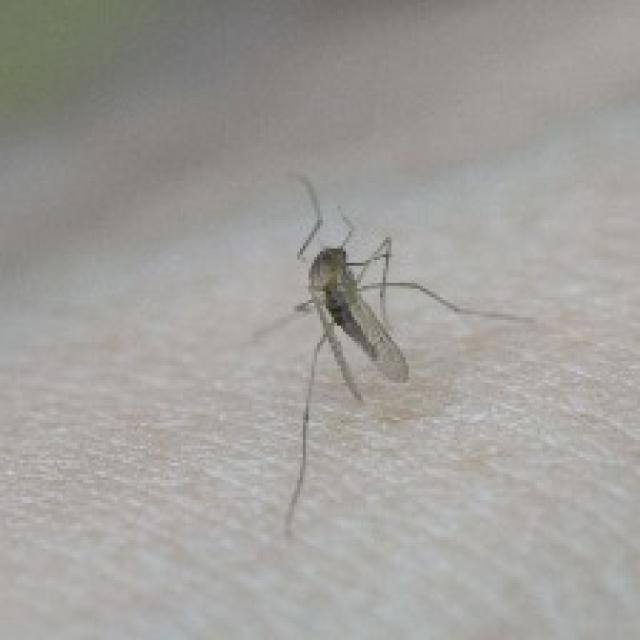culex: (248, 169, 532, 537)
